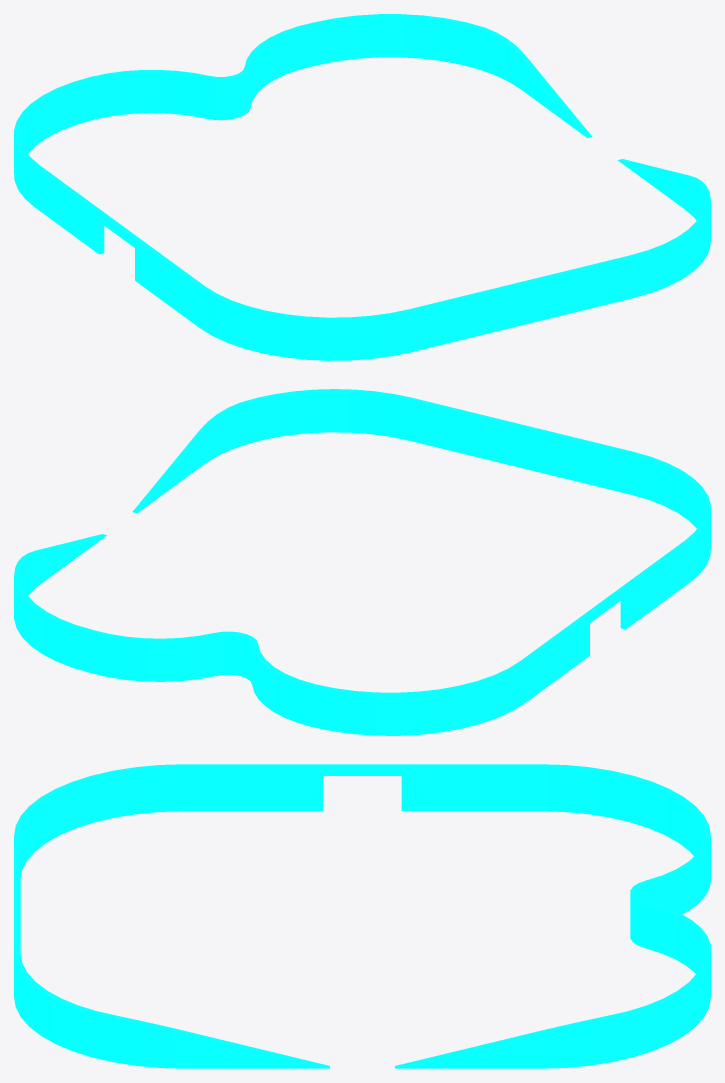
Rendered from bridge_exterior.dae.
The picture shows the model from 3 angles, top to bottom: view 1: azimuth 30°, elevation 25°; view 2: azimuth 150°, elevation 25°; view 3: azimuth 270°, elevation 25°; orthographic projection. The views are drawn at different scales.
Parts seen in each view (by area): view 1: CurbBridge; view 2: CurbBridge; view 3: CurbBridge.
Boxes of the visible parts, bbox=[...] form: CurbBridge: bbox=[14, 14, 710, 360]; CurbBridge: bbox=[14, 389, 710, 735]; CurbBridge: bbox=[14, 764, 710, 1068].
Bounding box in the file's own units: 18.9 × 21.4 × 1.5.
